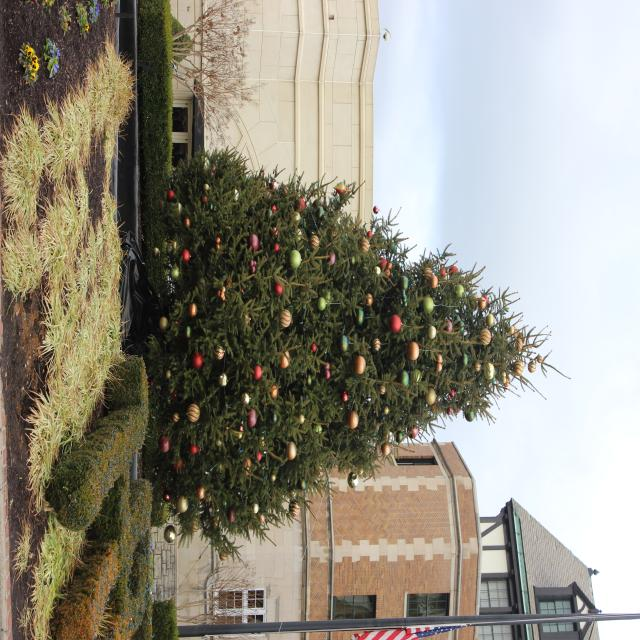Christmas-tree: (107, 135, 343, 640)
